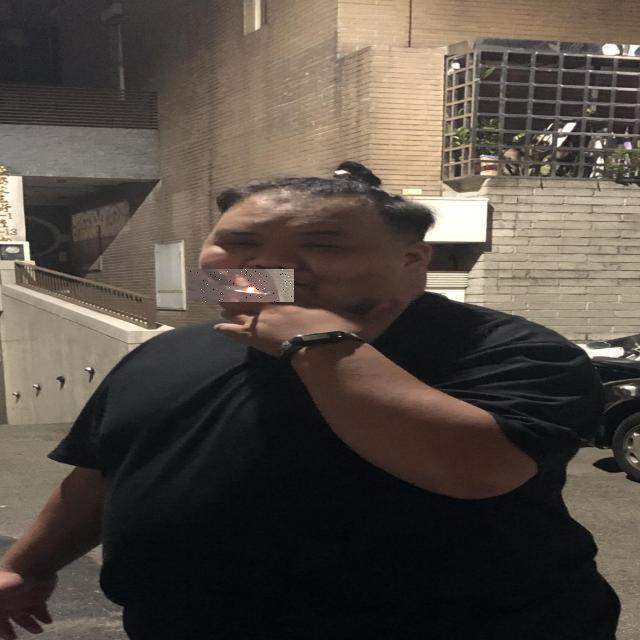smoking: (188, 269, 294, 302)
